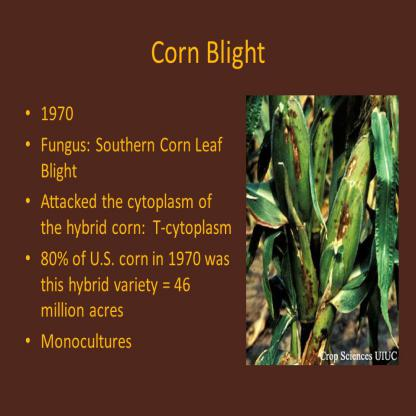corn leaf blight: (247, 190, 310, 315)
